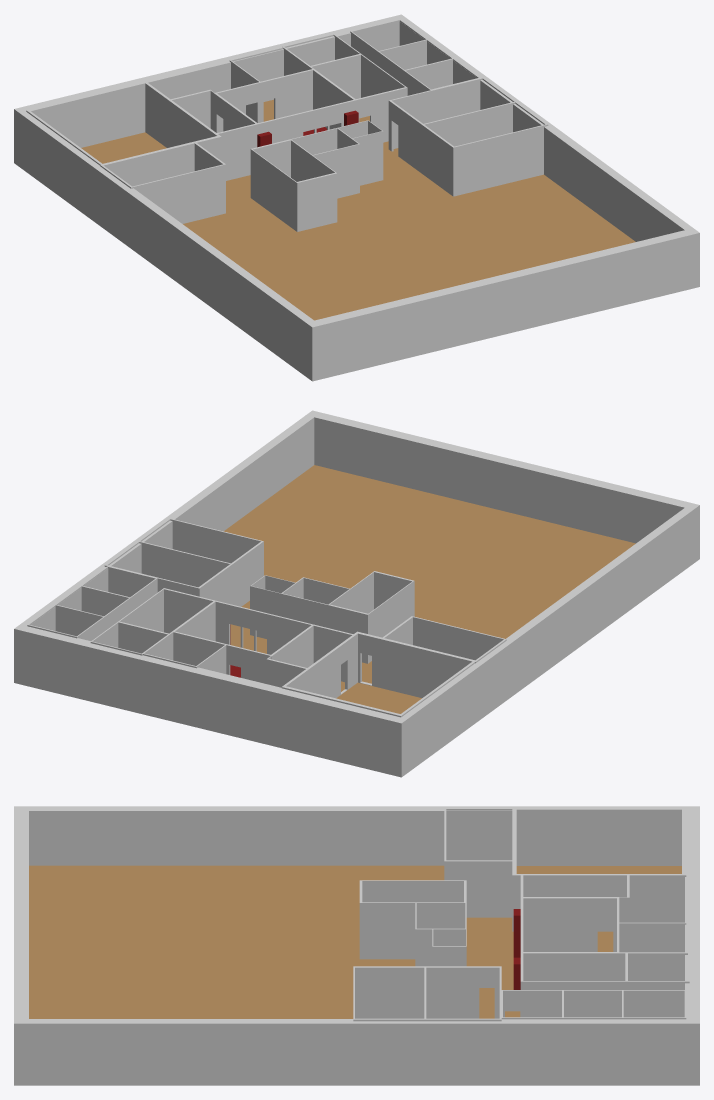
Rendered from H-block-color.fbx.
3 renders of one model, top to bottom at view 1: azimuth 30°, elevation 25°; view 2: azimuth 150°, elevation 25°; view 3: azimuth 270°, elevation 25°, orthographic. The views are drawn at different scales.
Parts seen in each view (by area): view 1: Third FloorqLA, Third Floor, 317, 319.004, 303, 319.001, 319.003, 319.002, 305, 318, Lift, 307 (+3 smaller); view 2: Third FloorqLA, Third Floor, 317, 303, 319.001, 319.003, 319.004, 305, 319.002, 309, 303a, Lift (+4 smaller); view 3: Third FloorqLA, Third Floor, 317, 319.001, 303, 305, 319.004, 319.003, 319.002, 309, Lift, 306 (+4 smaller).
Boxes of the visible parts, x1,y1,x2,y2 form: Third FloorqLA: (14, 14, 699, 381); Third Floor: (81, 99, 635, 320); 317: (26, 81, 221, 186); 319.004: (421, 102, 548, 196); 303: (214, 69, 356, 143); 319.001: (250, 139, 337, 231); 319.003: (388, 77, 516, 173); 319.002: (100, 142, 225, 223); 305: (310, 54, 407, 142); 318: (169, 89, 257, 180); Lift: (291, 127, 359, 198); 307: (350, 19, 427, 69); Third FloorqLA: (14, 410, 699, 777); Third Floor: (224, 465, 635, 713); 317: (281, 631, 475, 717); 303: (172, 600, 313, 683); 319.001: (328, 571, 414, 663); 319.003: (104, 541, 232, 604); 319.004: (138, 518, 263, 606); 305: (118, 588, 213, 653); 319.002: (381, 616, 506, 663); 309: (55, 566, 157, 631); 303a: (143, 631, 226, 673); Lift: (281, 577, 349, 627); Third FloorqLA: (14, 806, 699, 1085); Third Floor: (29, 865, 681, 1018); 317: (512, 808, 686, 931); 319.001: (359, 880, 466, 959); 303: (520, 897, 619, 953); 305: (520, 952, 627, 1017); 319.004: (353, 966, 425, 1021); 319.003: (424, 966, 501, 1021); 319.002: (444, 808, 515, 917); 309: (501, 990, 623, 1019); Lift: (415, 903, 466, 966); 306: (625, 952, 689, 1017).
Bounding box in the file's own units: 6000 × 820 × 8000.
